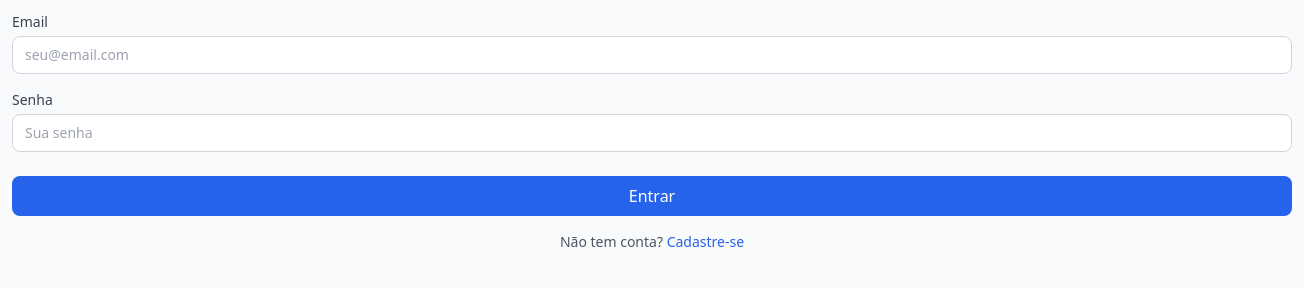
Test: LoginForm › deve exibir erro quando email é inválido
In the field labelled "Email": [652, 55] box [12,36,1292,74], type "invalid"
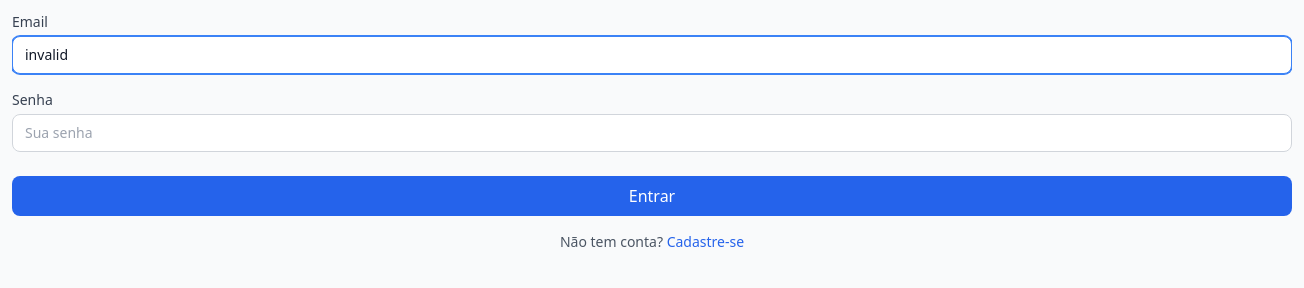
In the password field labelled "Senha": [652, 133] box [12,114,1292,152], type "12345678"
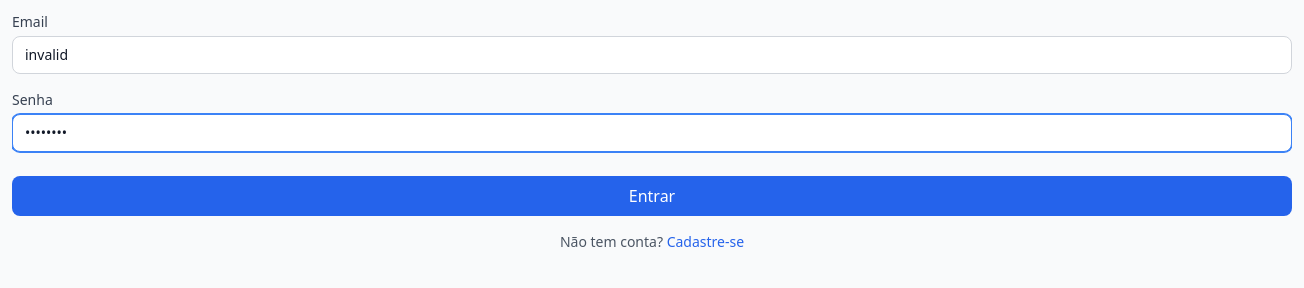
Click the button "Entrar": [652, 196] box [12,176,1292,216]
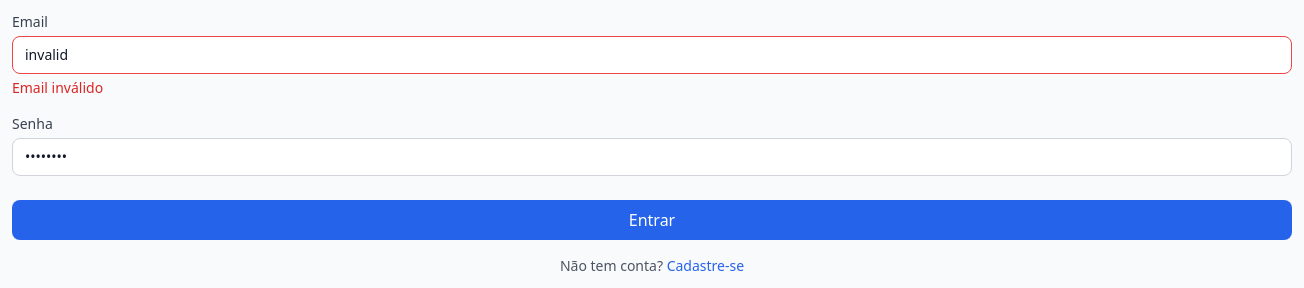
Check: the text "Email inválido" is shown, box [12,78,103,97]
